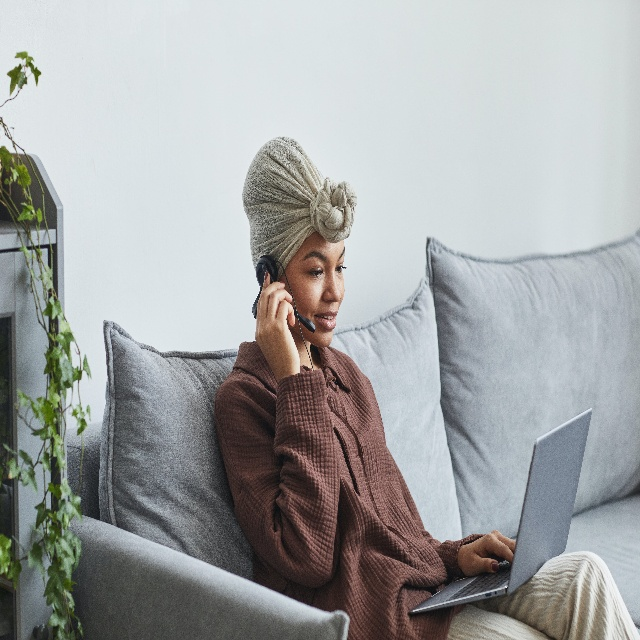Sin_guantes: (253, 269, 303, 383), (457, 527, 517, 579)
